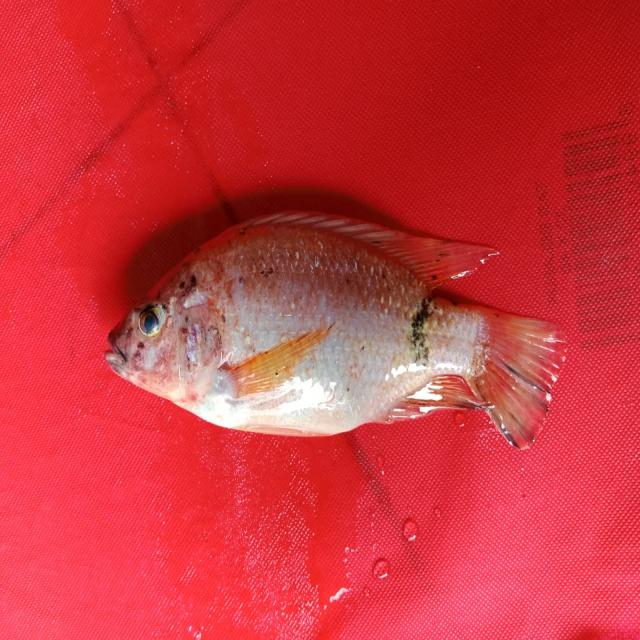ikan: (87, 190, 586, 482)
